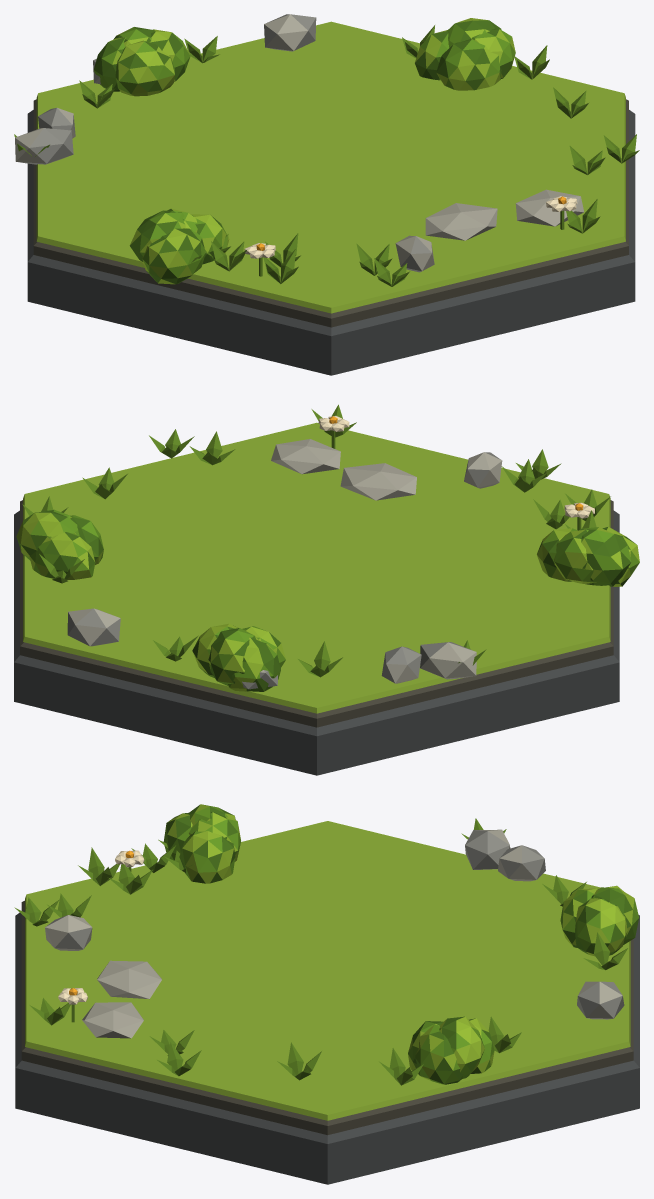
The model's file is hex_meadow_character.glb.
3 views of the same model, one above another, from view 1: azimuth 30°, elevation 25°; view 2: azimuth 150°, elevation 25°; view 3: azimuth 270°, elevation 25° (orthographic). The views are drawn at different scales.
Visible parts, largest first — view 1: Hex meadow, Hex stone foundation, Hex earth rim, Leaf cluster.009, Leaf cluster.003, Leaf cluster.006, Path stepping stone, Meadow stone.002, Meadow stone.004, Path stepping stone.001, Leaf cluster.001, Meadow stone.003 (+7 smaller); view 2: Hex meadow, Hex stone foundation, Hex earth rim, Path stepping stone, Leaf cluster.001, Leaf cluster.007, Path stepping stone.001, Meadow stone.002, Leaf cluster.010, Meadow stone.004, Leaf cluster.004, Leaf cluster.008 (+8 smaller); view 3: Hex meadow, Hex stone foundation, Hex earth rim, Leaf cluster, Leaf cluster.011, Path stepping stone, Leaf cluster.005, Path stepping stone.001, Leaf cluster.004, Meadow stone.004, Meadow stone.002, Meadow stone.001 (+6 smaller).
Part boxes in pixels (box(x1,y1,x2,y2)): Hex meadow: box(36, 21, 625, 313); Hex stone foundation: box(27, 110, 635, 375); Hex earth rim: box(33, 99, 628, 327); Leaf cluster.009: box(115, 40, 174, 96); Leaf cluster.003: box(142, 228, 205, 284); Leaf cluster.006: box(436, 39, 501, 90); Path stepping stone: box(425, 203, 497, 240); Meadow stone.002: box(15, 128, 73, 164); Meadow stone.004: box(264, 14, 316, 51); Path stepping stone.001: box(515, 189, 583, 226); Leaf cluster.001: box(129, 210, 185, 264); Meadow stone.003: box(395, 235, 434, 272); Hex meadow: box(23, 422, 610, 713); Hex stone foundation: box(14, 510, 619, 775); Hex earth rim: box(20, 500, 613, 727); Path stepping stone: box(340, 463, 416, 500); Leaf cluster.001: box(578, 527, 631, 586); Leaf cluster.007: box(29, 532, 95, 579); Path stepping stone.001: box(271, 439, 340, 474); Meadow stone.002: box(420, 642, 476, 679); Leaf cluster.010: box(208, 628, 258, 685); Meadow stone.004: box(67, 608, 120, 646); Leaf cluster.004: box(16, 511, 79, 560); Leaf cluster.008: box(228, 637, 280, 691); Hex meadow: box(25, 821, 630, 1120); Hex stone foundation: box(15, 912, 639, 1184); Hex earth rim: box(21, 900, 633, 1135); Leaf cluster: box(179, 831, 235, 883); Leaf cluster.011: box(575, 898, 627, 956); Path stepping stone: box(97, 960, 161, 999); Leaf cluster.005: box(415, 1024, 463, 1084); Path stepping stone.001: box(82, 1002, 143, 1038); Leaf cluster.004: box(439, 1016, 484, 1078); Meadow stone.004: box(577, 981, 624, 1019); Meadow stone.002: box(465, 829, 510, 869); Meadow stone.001: box(498, 845, 545, 881).
Bounding box in the file's own units: 3.7 × 0.6511 × 3.21.
